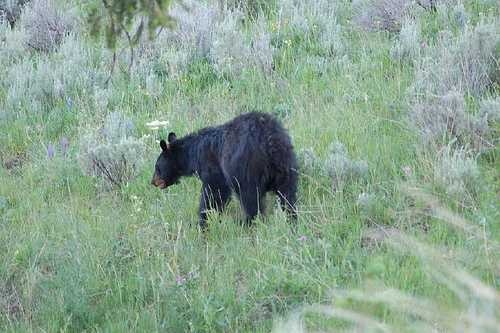bear: (138, 108, 266, 236)
